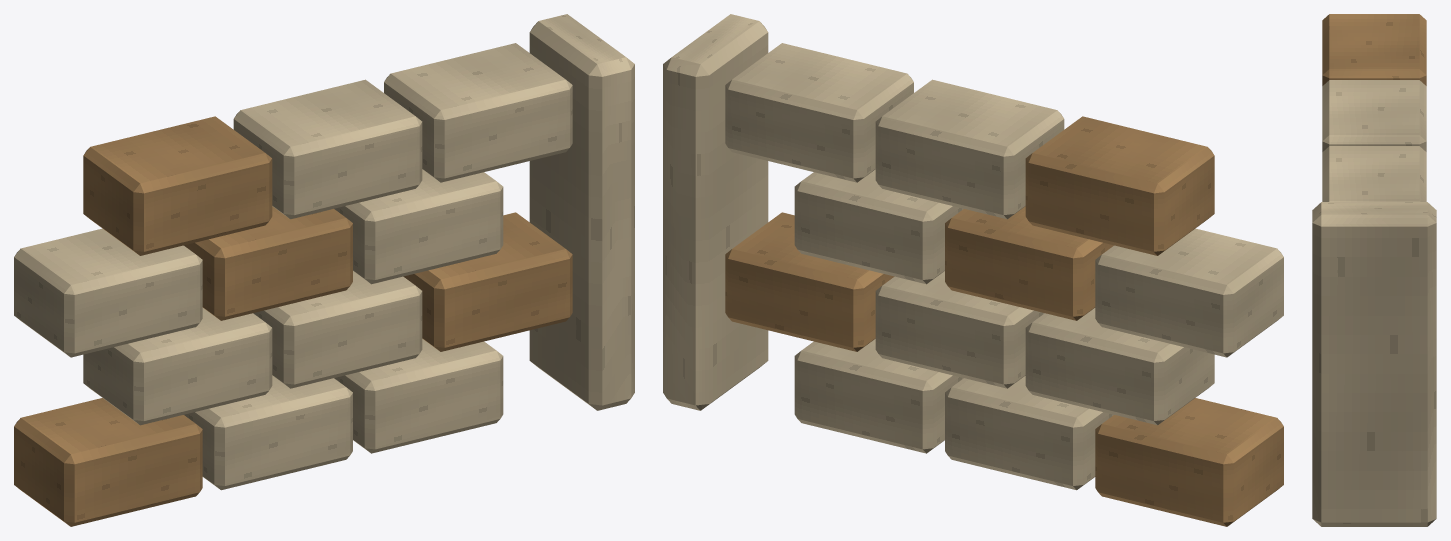
The model's file is StoneWall_End.glb.
The picture shows the model from 3 angles, left to right: view 1: azimuth 30°, elevation 25°; view 2: azimuth 150°, elevation 25°; view 3: azimuth 270°, elevation 25°; orthographic projection. The views are drawn at different scales.
Visible parts, largest first — view 1: FinishedEndCap, EndWall_3_0, EndWall_2_0, EndWall_0_0, EndWall_3_1, EndWall_3_2, EndWall_1_0, EndWall_1_2, EndWall_2_2, EndWall_0_2, EndWall_1_1, EndWall_0_1 (+1 smaller); view 2: FinishedEndCap, EndWall_3_0, EndWall_2_0, EndWall_0_0, EndWall_3_1, EndWall_3_2, EndWall_1_0, EndWall_1_2, EndWall_2_2, EndWall_0_2, EndWall_1_1, EndWall_0_1 (+1 smaller); view 3: FinishedEndCap, EndWall_3_0, EndWall_3_1, EndWall_3_2.
Boxes of the visible parts, x1,y1,x2,y2 form: FinishedEndCap: (529,14,634,410); EndWall_3_0: (83,116,272,255); EndWall_2_0: (14,228,202,357); EndWall_0_0: (14,398,202,526); EndWall_3_1: (233,79,422,219); EndWall_3_2: (384,43,572,182); EndWall_1_0: (83,308,272,425); EndWall_1_2: (403,212,572,351); EndWall_2_2: (334,169,503,284); EndWall_0_2: (334,339,503,453); EndWall_1_1: (253,271,422,388); EndWall_0_1: (184,376,352,490); FinishedEndCap: (663,14,768,410); EndWall_3_0: (1025,116,1214,255); EndWall_2_0: (1095,228,1283,357); EndWall_0_0: (1095,398,1283,526); EndWall_3_1: (875,79,1064,219); EndWall_3_2: (725,43,913,182); EndWall_1_0: (1025,308,1214,425); EndWall_1_2: (725,212,894,351); EndWall_2_2: (794,169,963,284); EndWall_0_2: (794,339,963,453); EndWall_1_1: (875,271,1044,388); EndWall_0_1: (945,376,1113,490); FinishedEndCap: (1312,202,1436,526); EndWall_3_0: (1322,14,1426,85); EndWall_3_1: (1322,80,1426,151); EndWall_3_2: (1322,146,1426,201).
Bounding box in the file's own units: 2.94 × 1.72 × 0.62.
2 materials, 2 textured.
